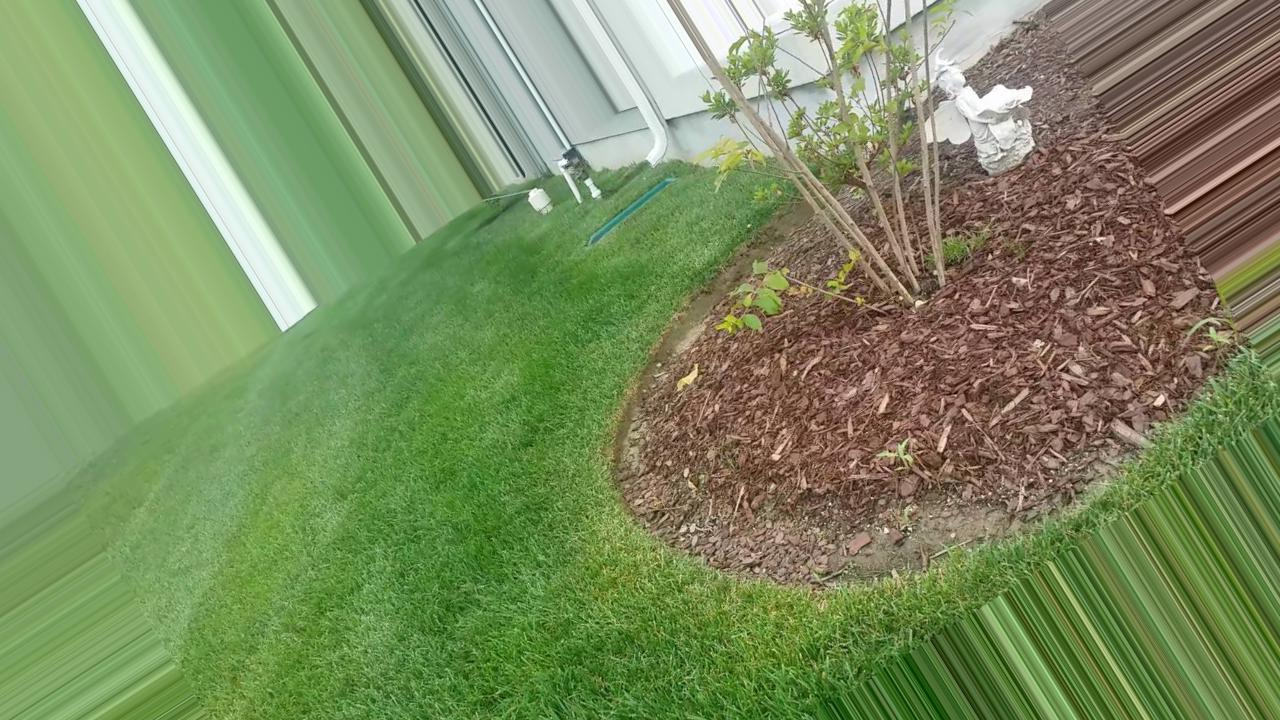patch: (751, 298, 968, 469), (986, 245, 1149, 413), (1012, 132, 1129, 210), (644, 384, 734, 467)
